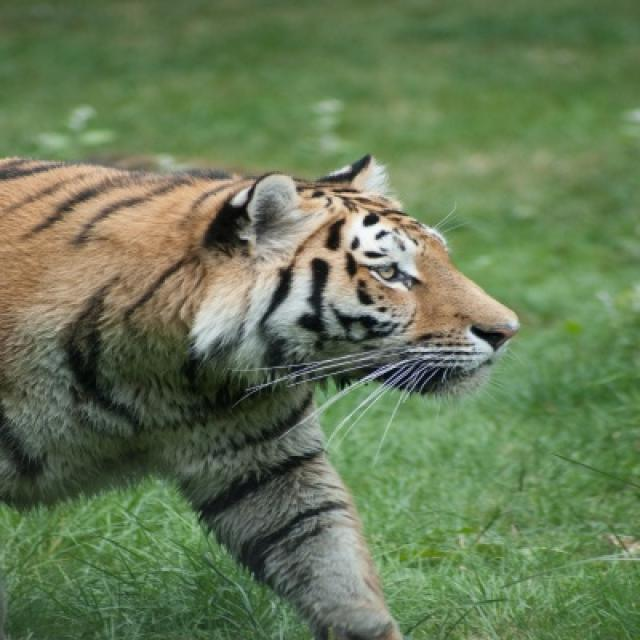Tiger: (0, 156, 518, 638)
